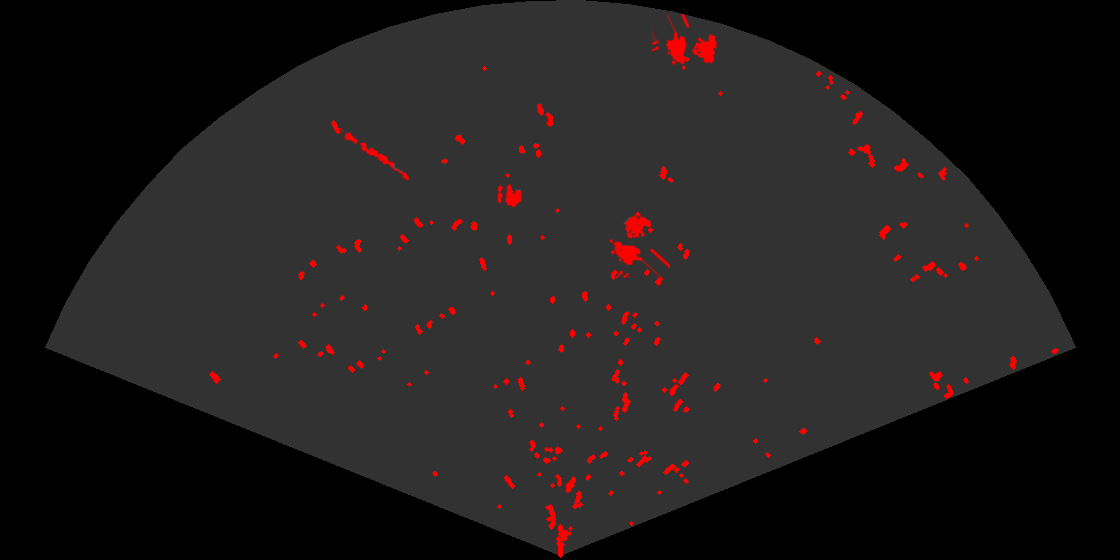ball: (496, 182, 523, 209)
cage: (608, 214, 670, 278), (652, 14, 719, 72)
chain: (339, 128, 411, 182)
